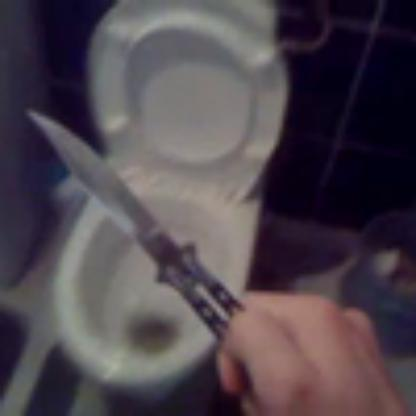knives: (12, 82, 282, 382)
